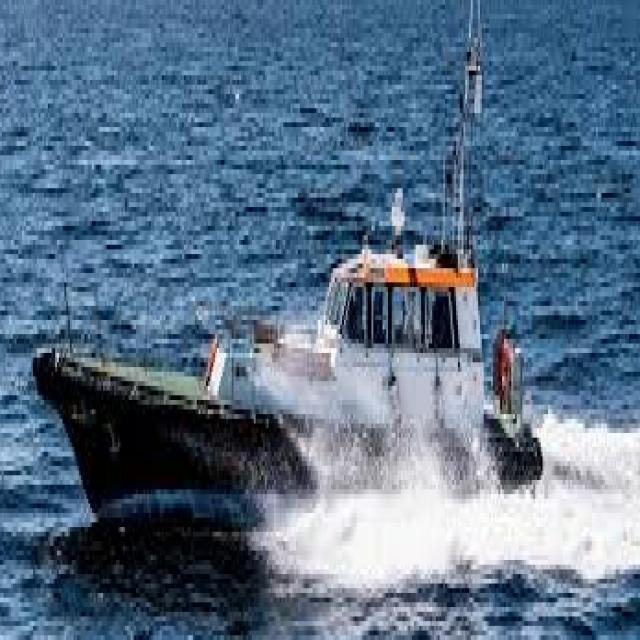houseboat: (28, 76, 540, 523)
